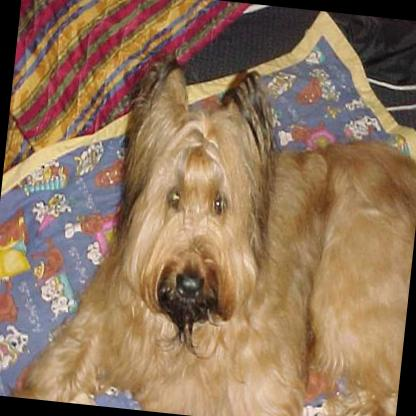briard: (15, 35, 416, 416)
